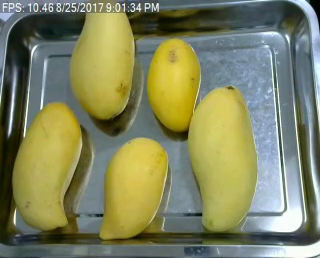Mango: (187, 80, 262, 237), (8, 99, 82, 231), (68, 12, 134, 118), (100, 135, 166, 235), (145, 35, 198, 130)
